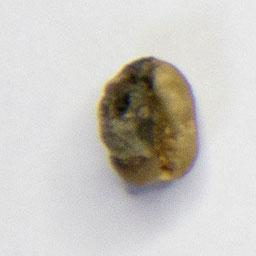defect: (94, 51, 203, 191)
